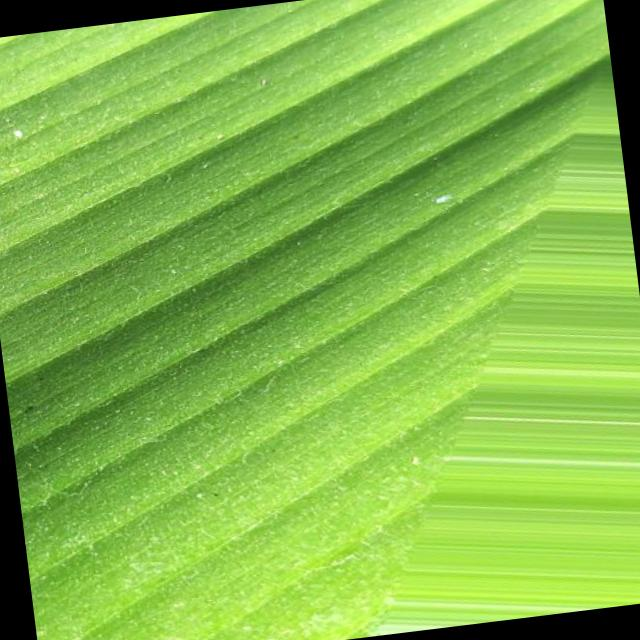Banana_Healthy: (26, 0, 640, 608)
